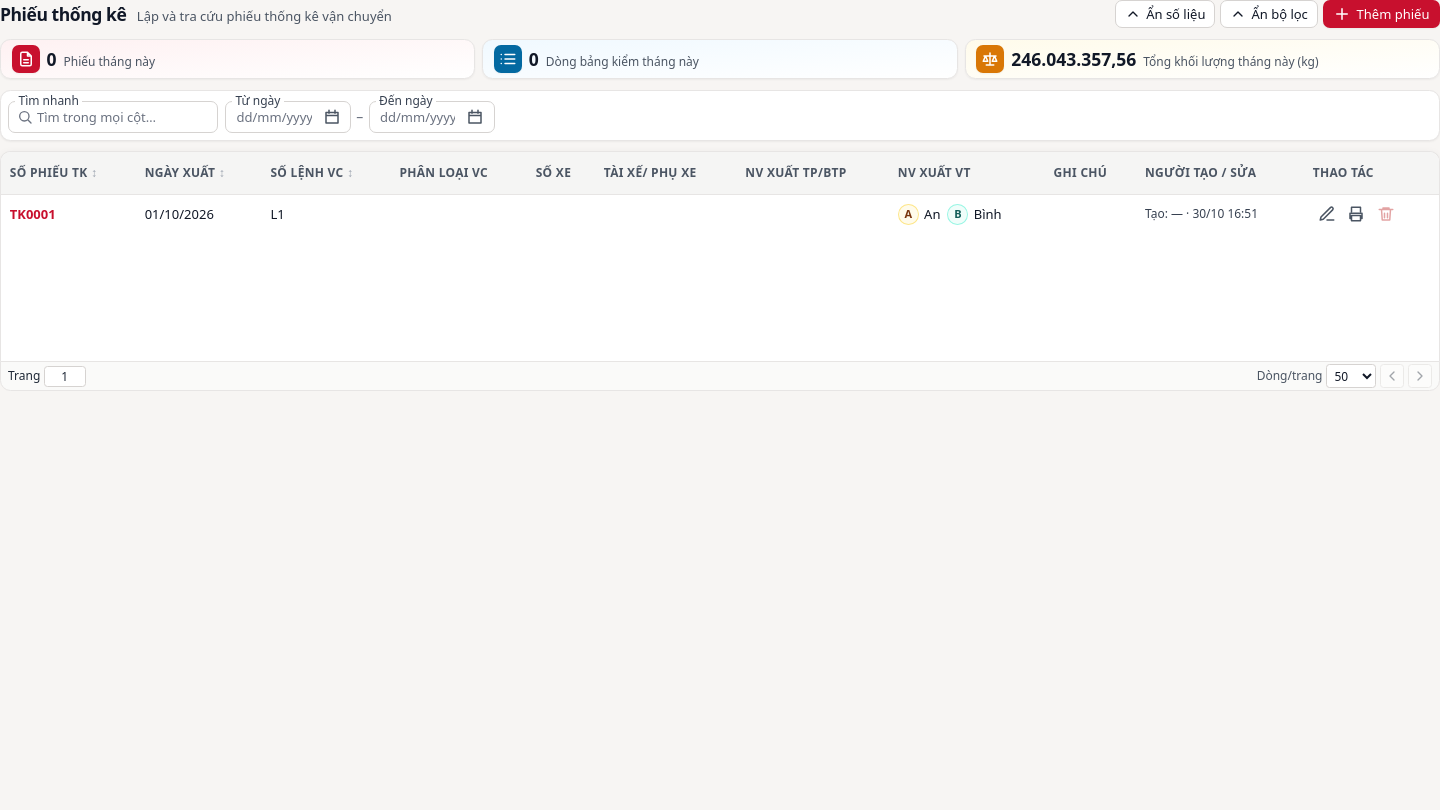
Test: PlansPage › user không phải người tạo: Xóa bị khóa kèm giải thích, Sửa mở modal chỉ xem (không có nút Lưu)
Expected: the button with test id "delete-TK0001" is disabled, x1=1372 y1=200 x2=1400 y2=228
Step 1. Click the button with test id "edit-TK0001" → (1327, 214), box x1=1313 y1=200 x2=1341 y2=228
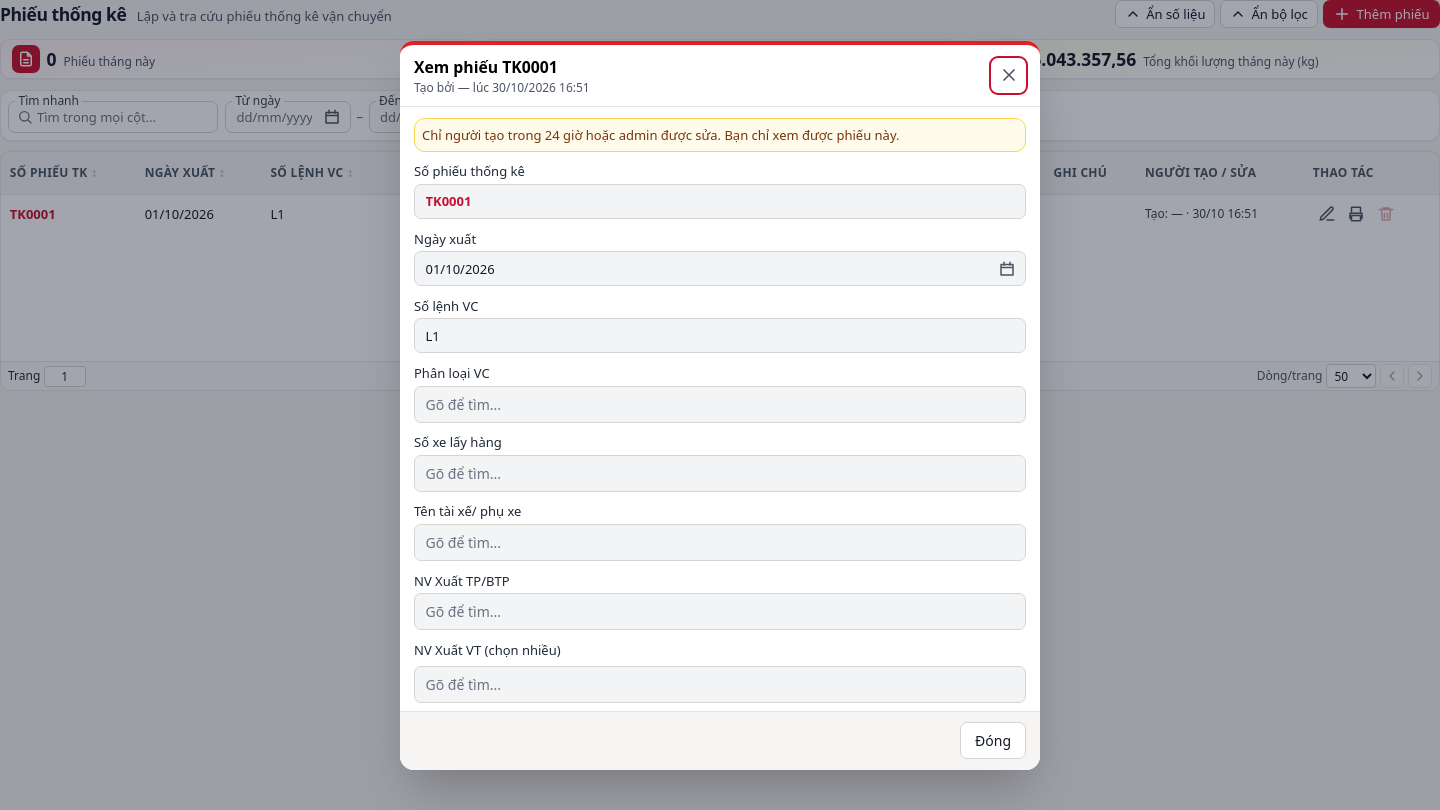
Expected: the heading "Xem phiếu TK0001" is shown, x1=414 y1=56 x2=558 y2=78
